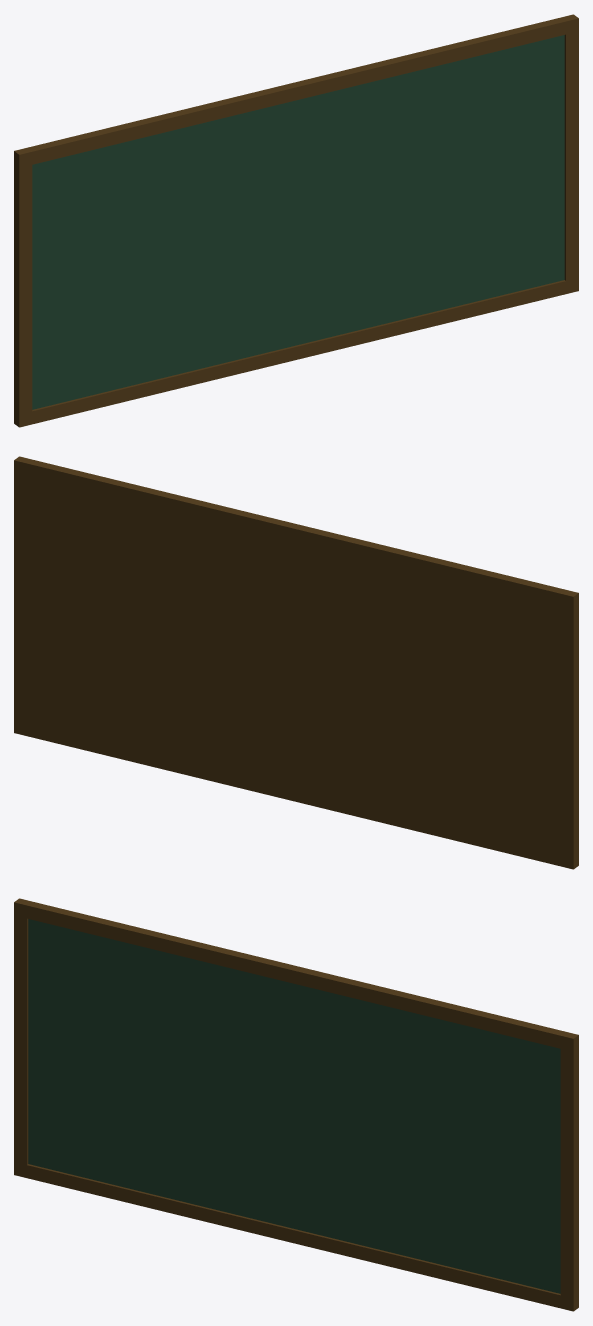
Rendered from blackboard.fbx.
The picture shows the model from 3 angles, top to bottom: view 1: azimuth 30°, elevation 25°; view 2: azimuth 150°, elevation 25°; view 3: azimuth 330°, elevation 25°; orthographic projection.
Parts seen in each view (by area): view 1: blackboard; view 2: blackboard; view 3: blackboard.
Boxes of the visible parts, x1,y1,x2,y2 form: blackboard: (14,14,578,427); blackboard: (14,456,578,869); blackboard: (14,898,578,1311).
Size of the model in its own units: 300 by 5 by 140.
